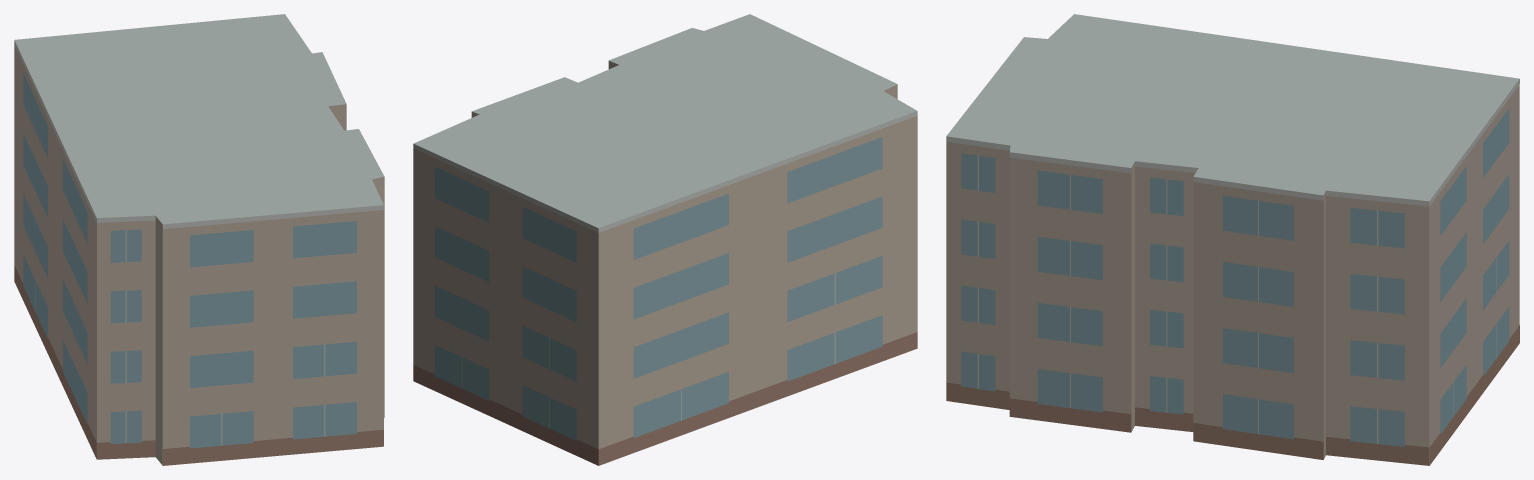
The model's file is survey-upis-32528273.glb.
The picture shows the model from 3 angles, left to right: view 1: azimuth 30°, elevation 25°; view 2: azimuth 150°, elevation 25°; view 3: azimuth 270°, elevation 25°; orthographic projection. The views are drawn at different scales.
Parts seen in each view (by area): view 1: survey-upis-32528273.tmp; view 2: survey-upis-32528273.tmp; view 3: survey-upis-32528273.tmp.
Part boxes in pixels (x1=…): survey-upis-32528273.tmp: x1=14, y1=14, x2=384, y2=465; survey-upis-32528273.tmp: x1=413, y1=14, x2=917, y2=465; survey-upis-32528273.tmp: x1=946, y1=14, x2=1519, y2=465.
Bounding box in the file's own units: 18.53 × 12.2 × 23.98.
